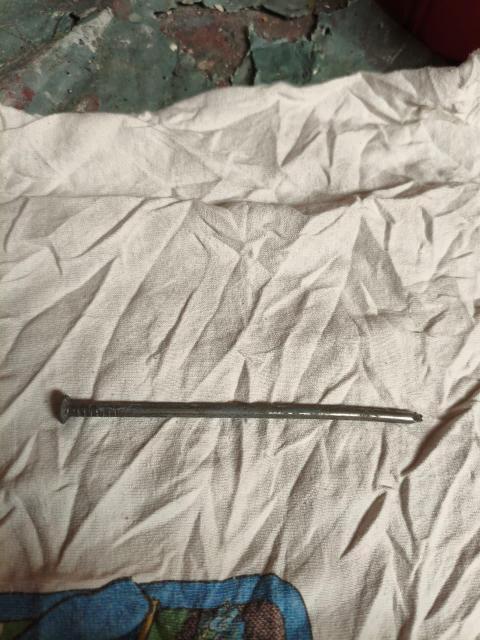Metal: (45, 380, 425, 443)
